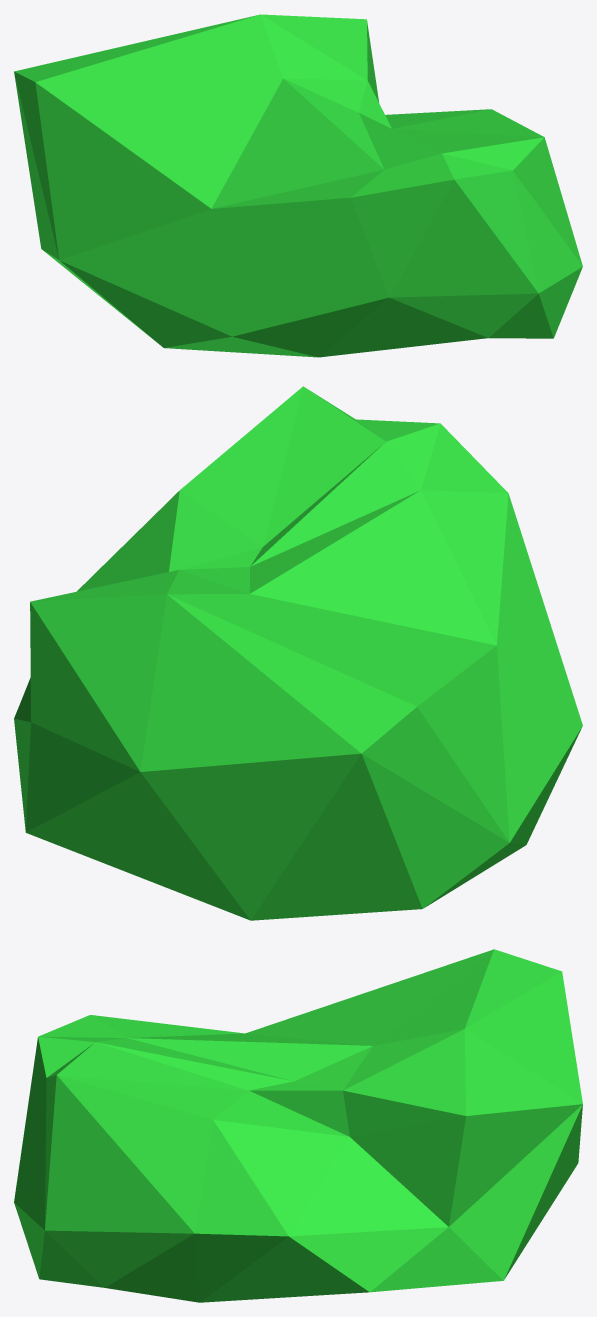
Rendered from bush3.glb.
3 views of the same model, one above another, from view 1: azimuth 30°, elevation 25°; view 2: azimuth 150°, elevation 25°; view 3: azimuth 270°, elevation 25° (orthographic). The views are drawn at different scales.
Parts seen in each view (by area): view 1: Object_14.001; view 2: Object_14.001; view 3: Object_14.001.
Boxes of the visible parts, x1,y1,x2,y2 form: Object_14.001: (14,14,582,357); Object_14.001: (14,386,582,920); Object_14.001: (14,949,582,1302).
Size of the model in its own units: 7.66 by 4.04 by 8.92.
